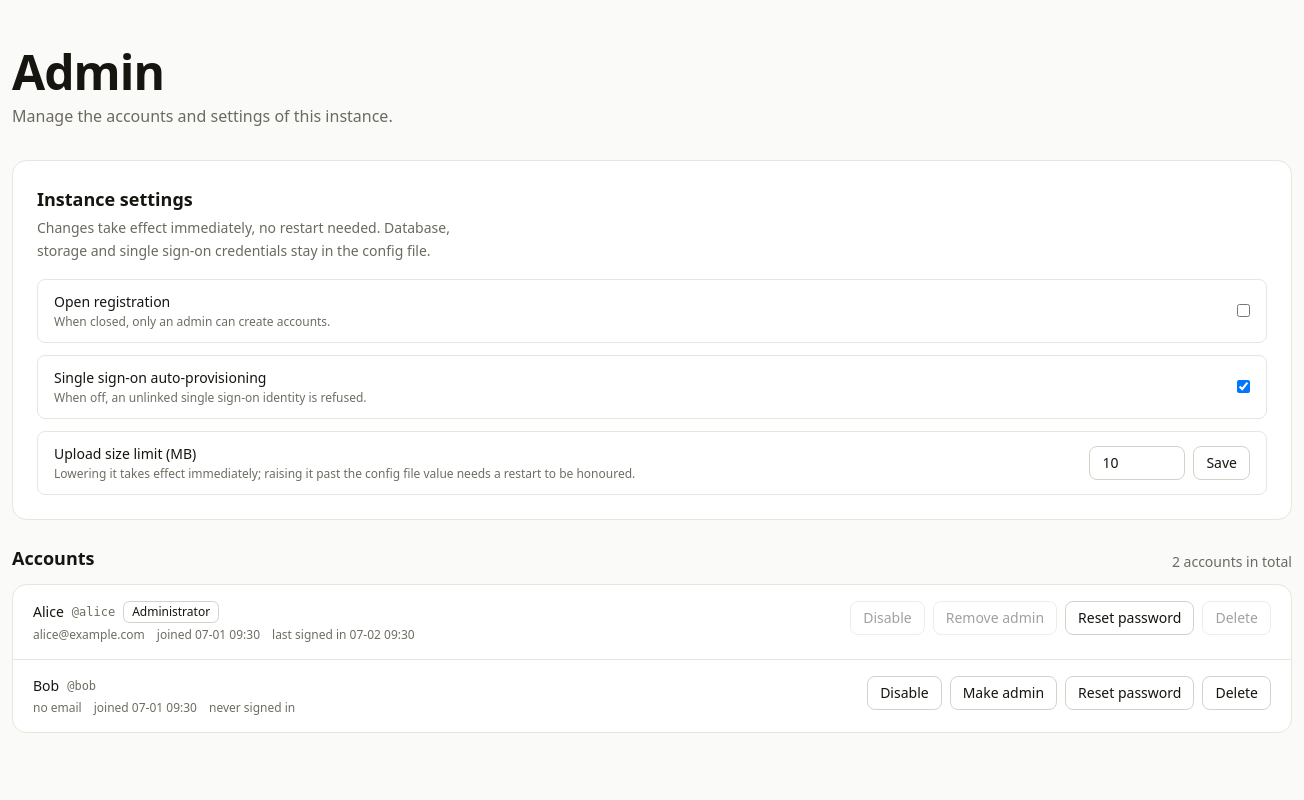
AdminPage › a password the server refuses reports what actually happened
Expected: the text "@bob" is shown, [67, 678, 96, 694]
Click the button "Reset password" in the row of "never signed in" at (1130, 692), box [1065, 676, 1194, 710]
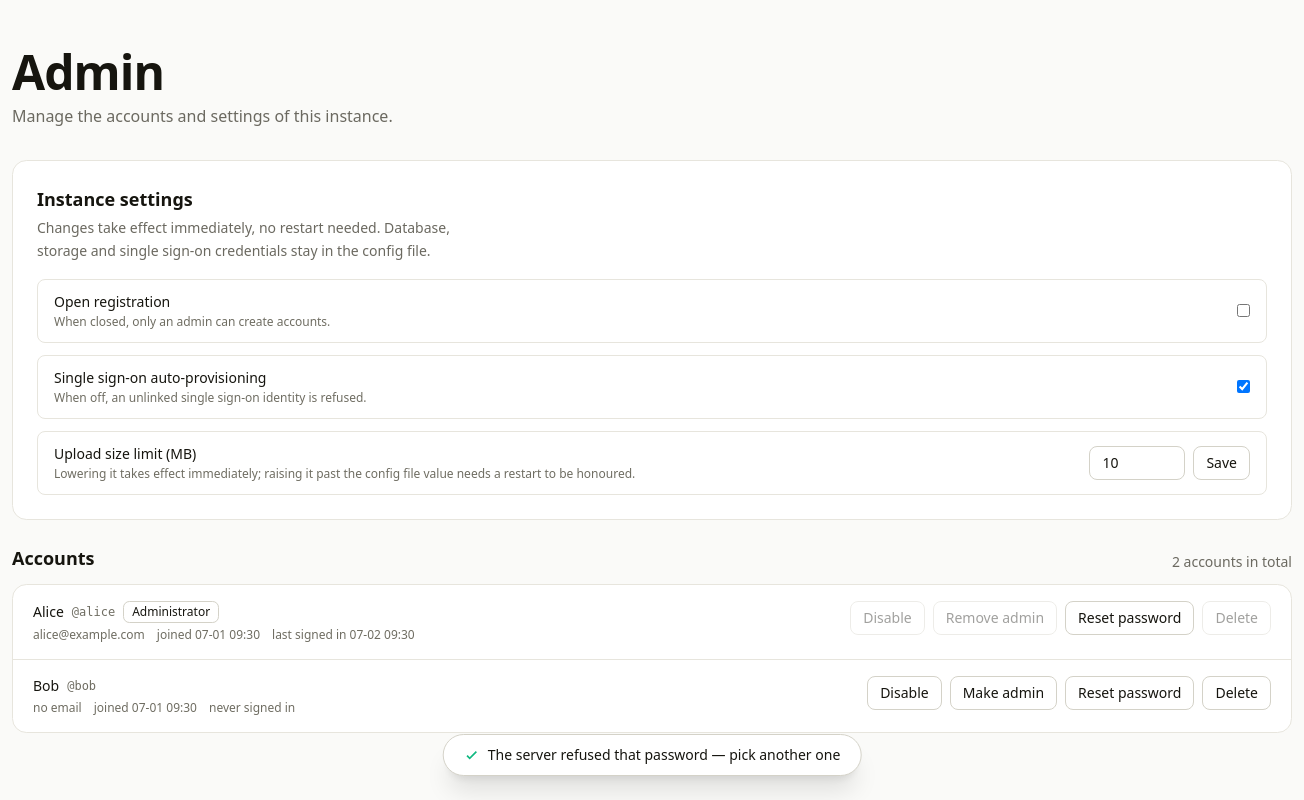
Expected: the text "The server refused that password — pick another one" is shown, [488, 745, 840, 765]
